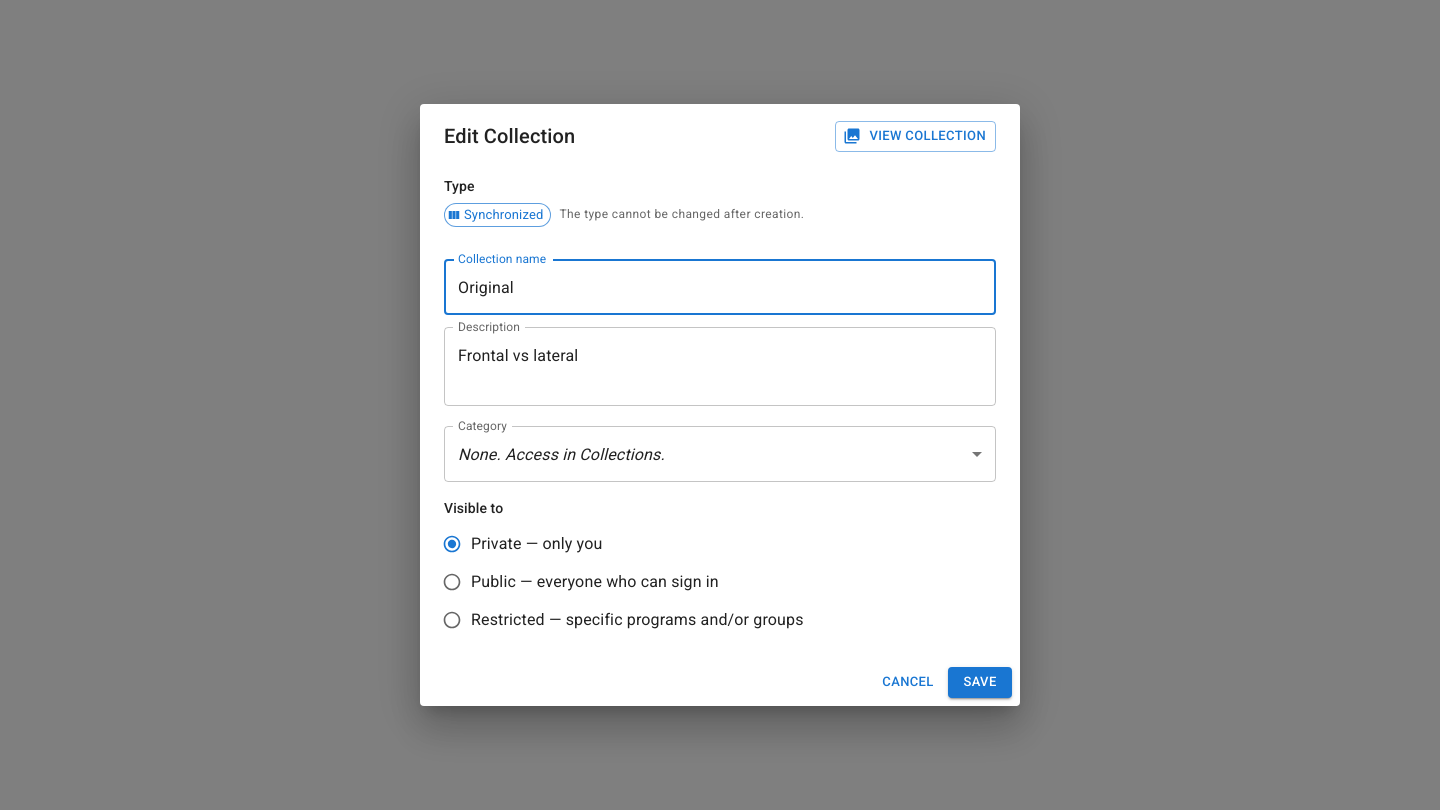
it: CollectionEditDialog › edit mode › disables View Collection actions while a save is pending
Replace the text in the field labelled "Collection name" with "Changed": (720, 287) [444,259,996,315]
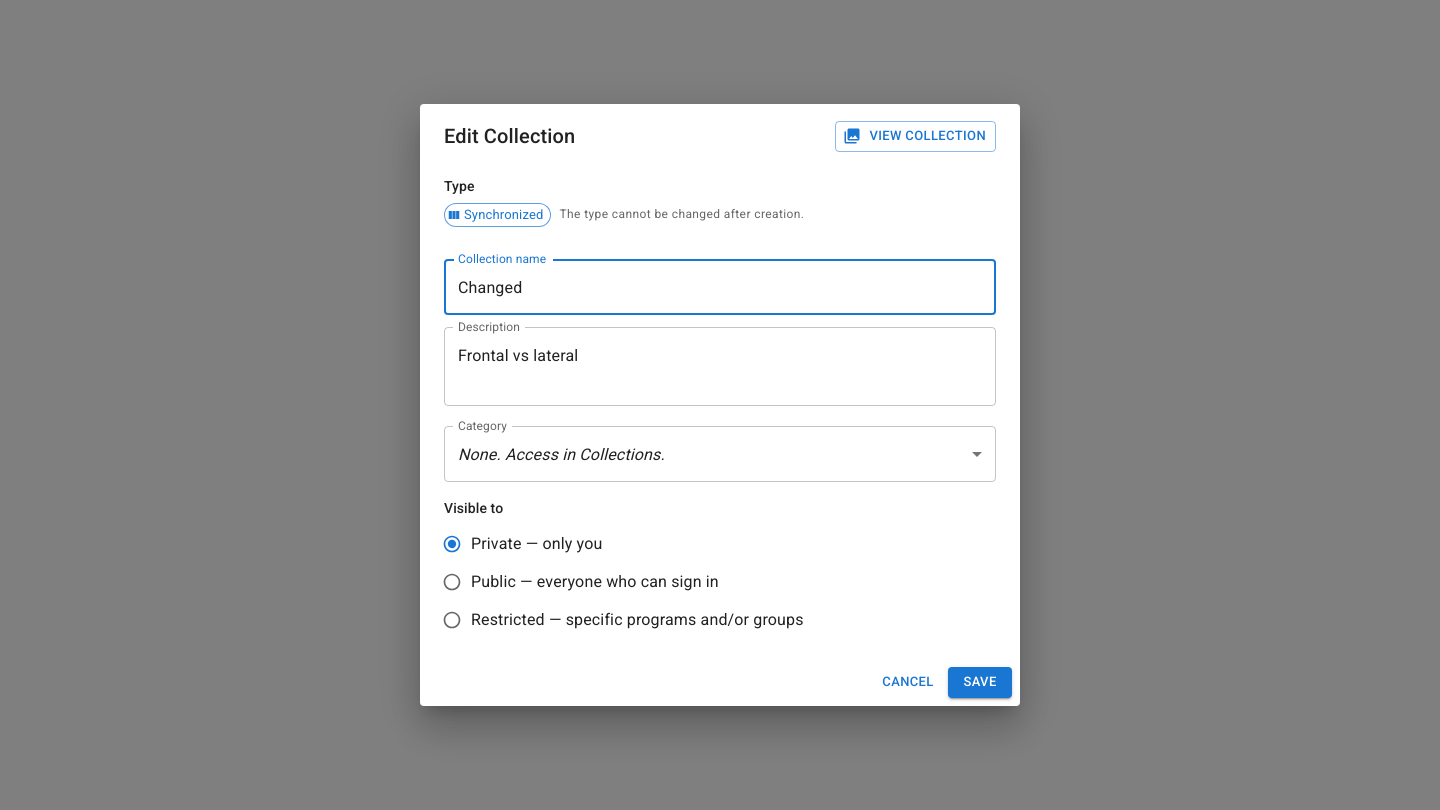
Click the button "View Collection": (916, 136) [835,121,996,152]
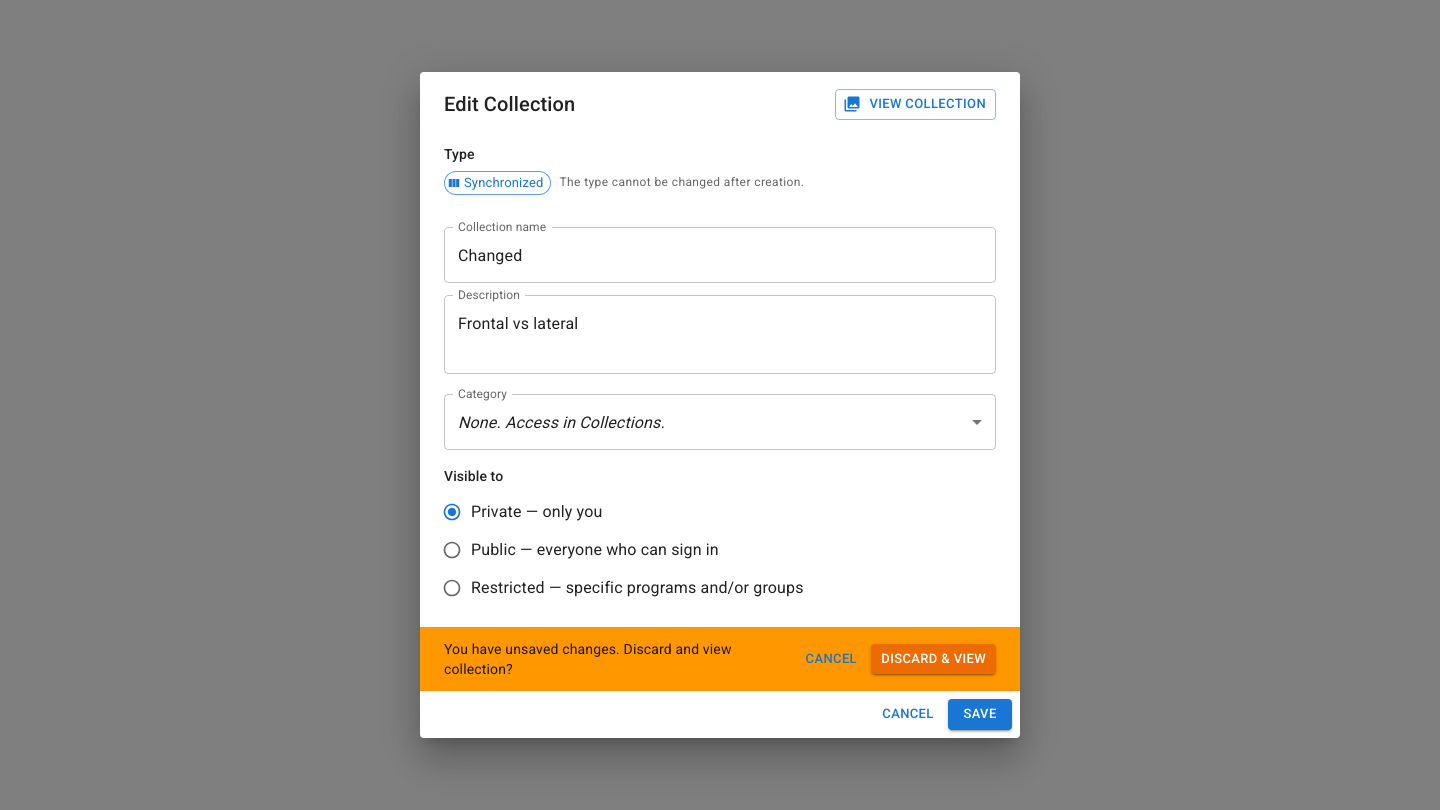
Click the button "Save": (980, 714) [948,699,1012,730]
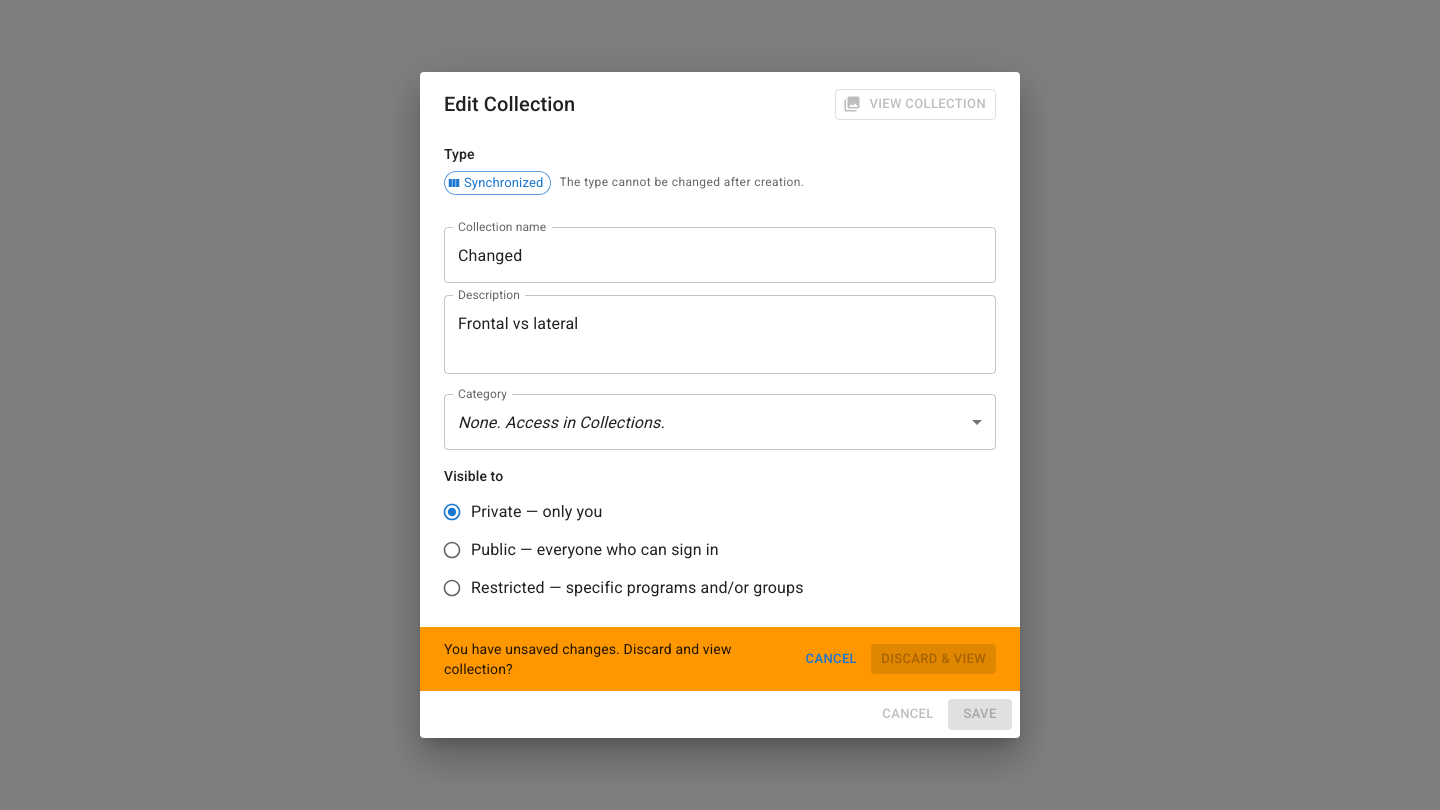
Expected: the button "View Collection" is disabled, [835,89,996,120]
Expected: the button "Discard & View" is disabled, [871,644,996,674]
